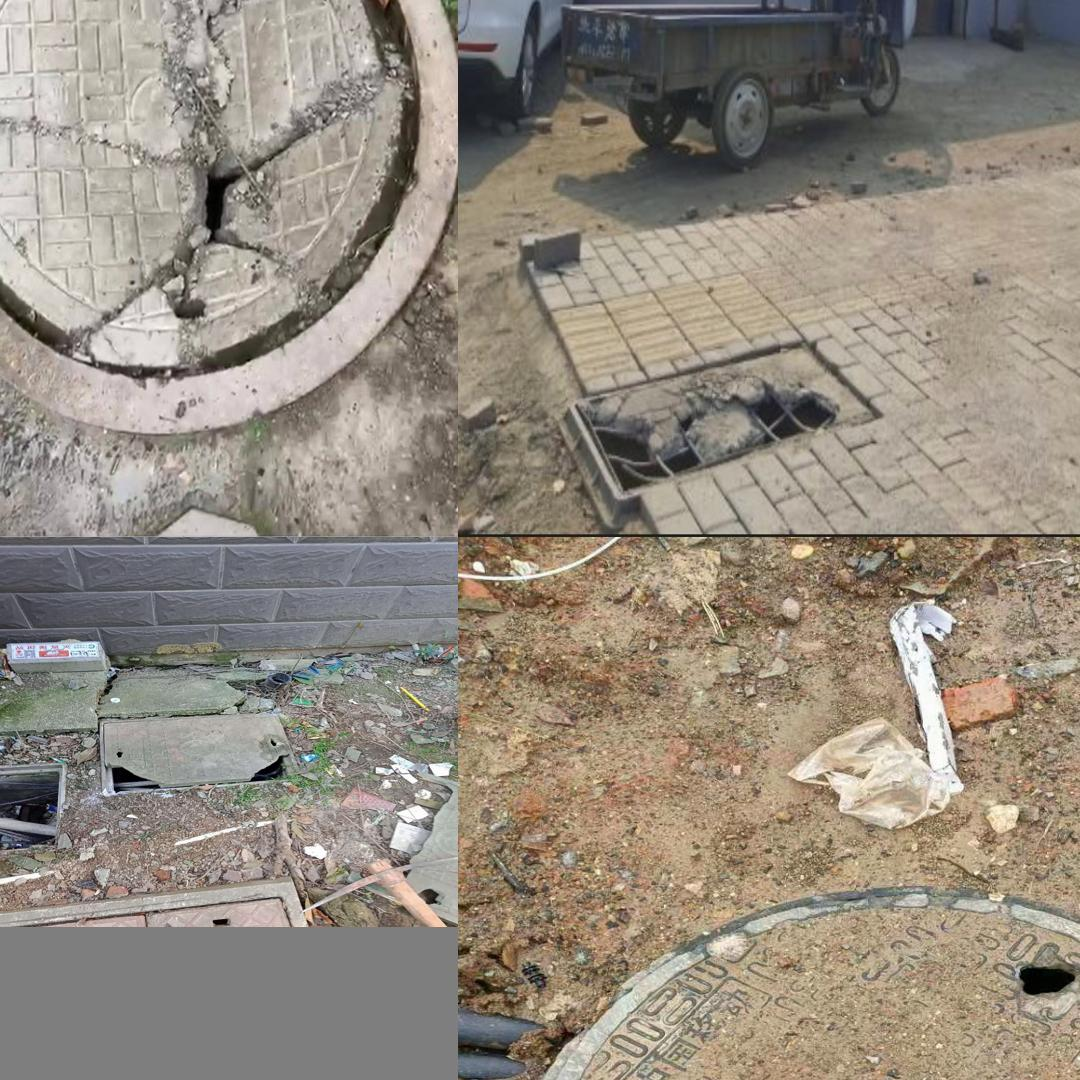broke: (0, 0, 421, 384), (510, 885, 1080, 1080), (560, 337, 882, 527), (97, 711, 305, 797)
